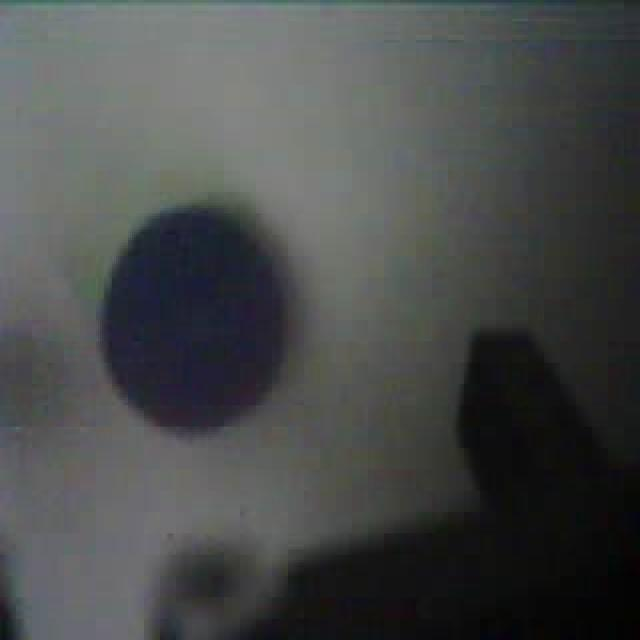blue_ball: (96, 197, 292, 435)
